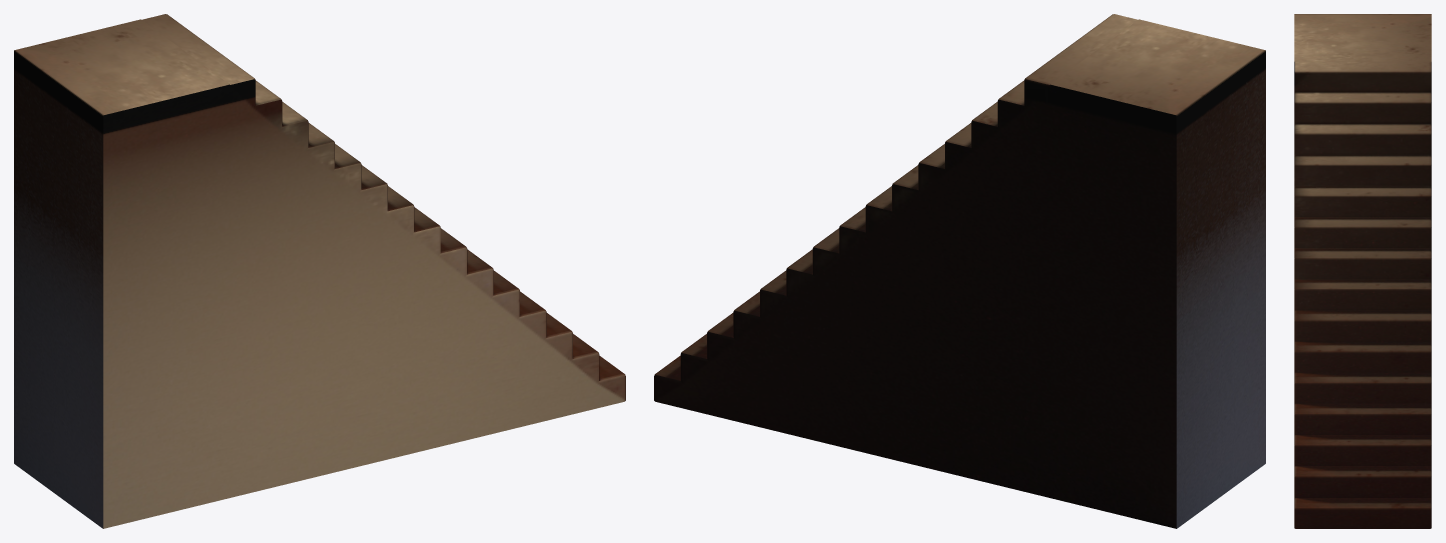
File: stairs.obj
3 renders of one model, left to right at view 1: azimuth 30°, elevation 25°; view 2: azimuth 150°, elevation 25°; view 3: azimuth 270°, elevation 25°, orthographic. The views are drawn at different scales.
Parts seen in each view (by area): view 1: stairs BakedQuadGeos1; view 2: stairs BakedQuadGeos1; view 3: stairs BakedQuadGeos1.
Part boxes in pixels (x1,y1,x2,y2): stairs BakedQuadGeos1: (14, 14, 625, 528); stairs BakedQuadGeos1: (654, 14, 1265, 528); stairs BakedQuadGeos1: (1294, 14, 1431, 528).
Bounding box in the file's own units: 4.31 × 3.26 × 1.27.
Materials: 1 (1 with a texture image).
